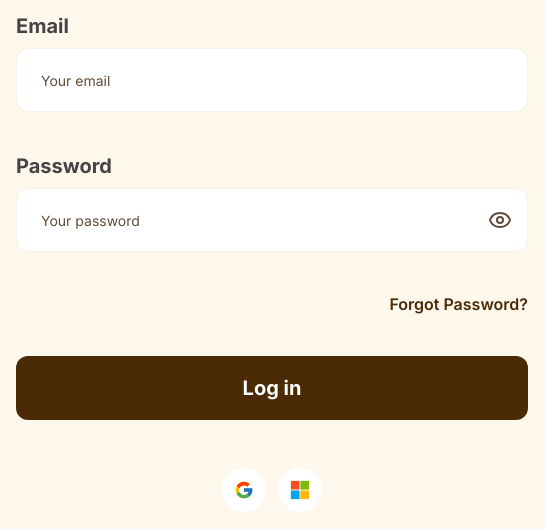
Test: LoginForm › displays loading state during submission
Type "test@example.com" into the field labelled "Email" at (272, 80), box [16, 48, 528, 112]
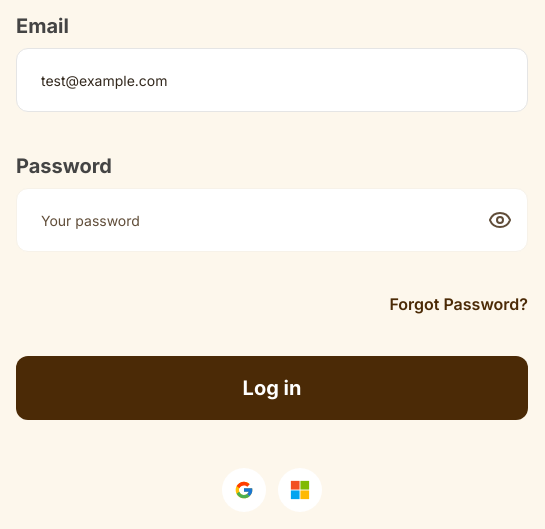
Type "password123" into the password field with placeholder "Your password" at (272, 220), box [16, 188, 528, 252]
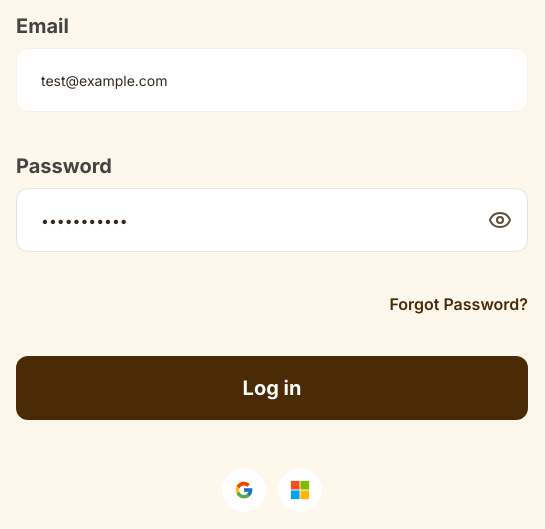
Click the button "Log in" at (272, 388), box [16, 356, 528, 420]
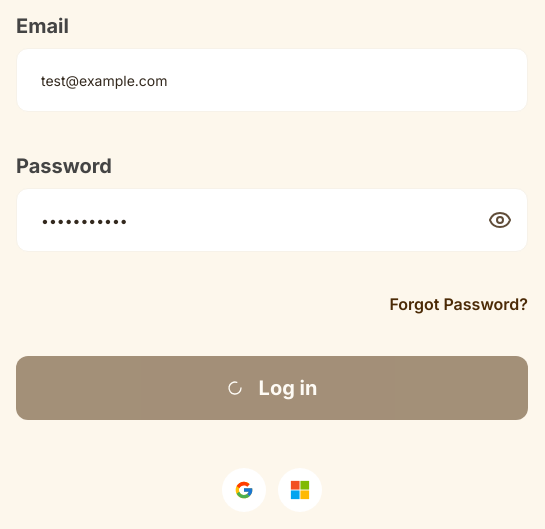
Now the button "Log in" is disabled, box [16, 356, 528, 420]
Now the icon with class "animate-spin" is shown, box [227, 380, 243, 396]
